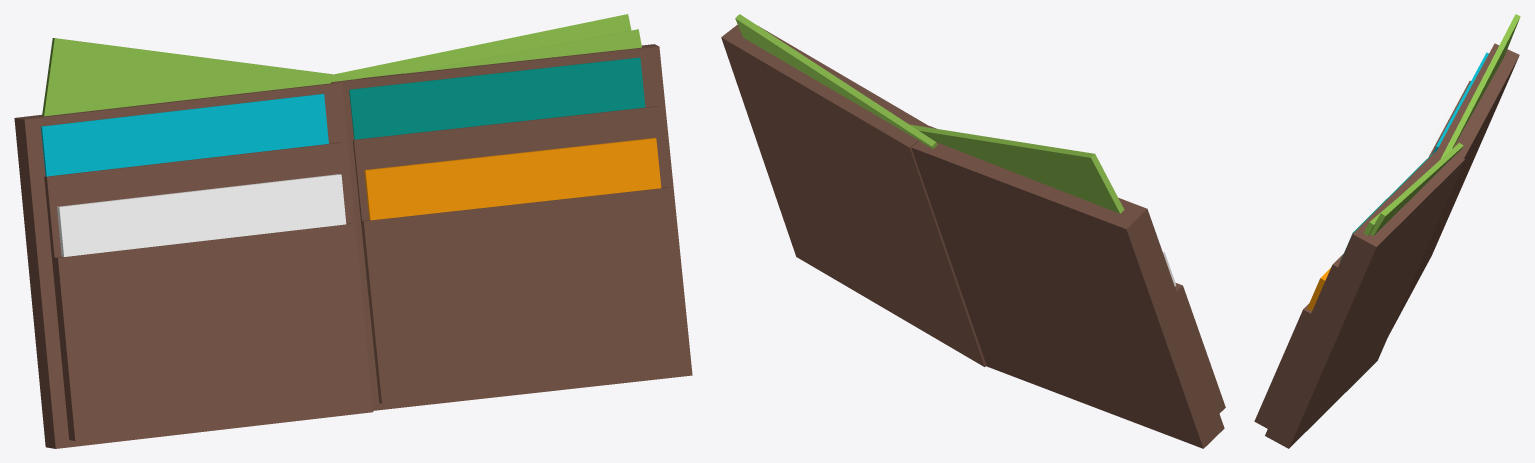
The model's file is A Wallet.glb.
3 views of the same model, side by side, from view 1: azimuth 30°, elevation 25°; view 2: azimuth 150°, elevation 25°; view 3: azimuth 270°, elevation 25° (orthographic). The views are drawn at different scales.
Visible parts, largest first — view 1: group771970811; view 2: group771970811; view 3: group771970811.
Boxes of the visible parts, x1,y1,x2,y2 form: group771970811: (14,14,692,448); group771970811: (721,14,1225,448); group771970811: (1254,14,1520,448).
Size of the model in its own units: 0.9066 by 0.5334 by 0.4799.
